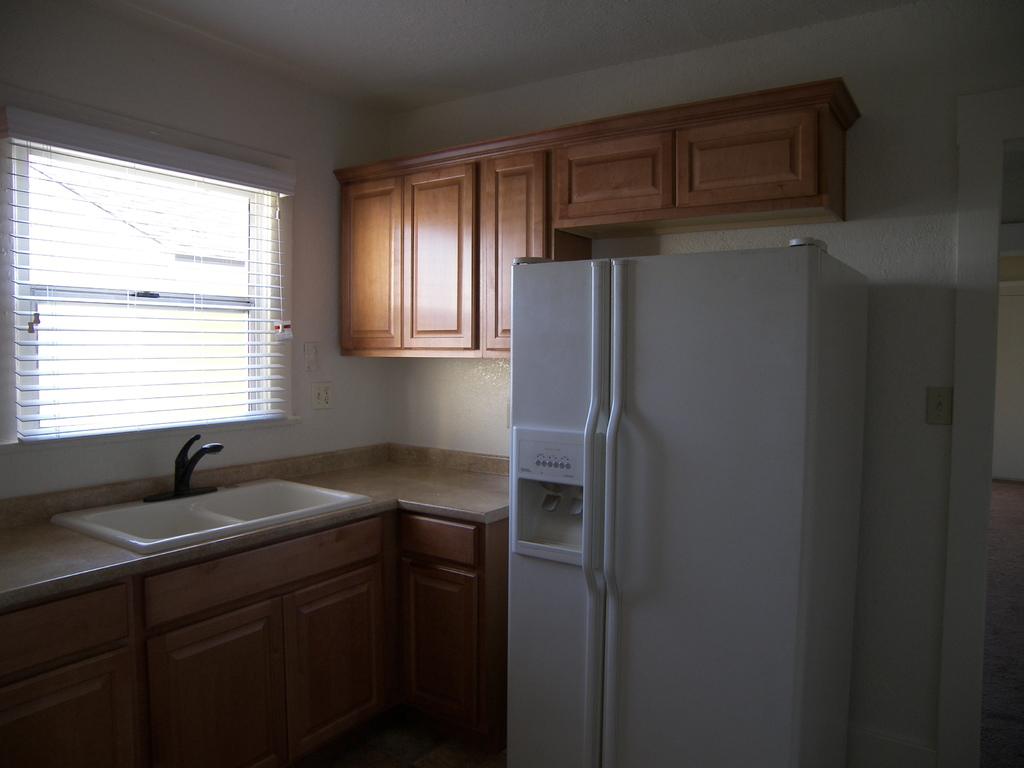cabinet door: (166, 631, 285, 764), (8, 678, 141, 768), (290, 591, 381, 721), (407, 173, 475, 340), (404, 565, 478, 709), (343, 178, 399, 339), (668, 129, 814, 187), (490, 167, 534, 342), (556, 155, 670, 209)
handle: (571, 414, 606, 589), (603, 415, 634, 599)
refrigerator door: (610, 266, 812, 768), (519, 267, 614, 768)
